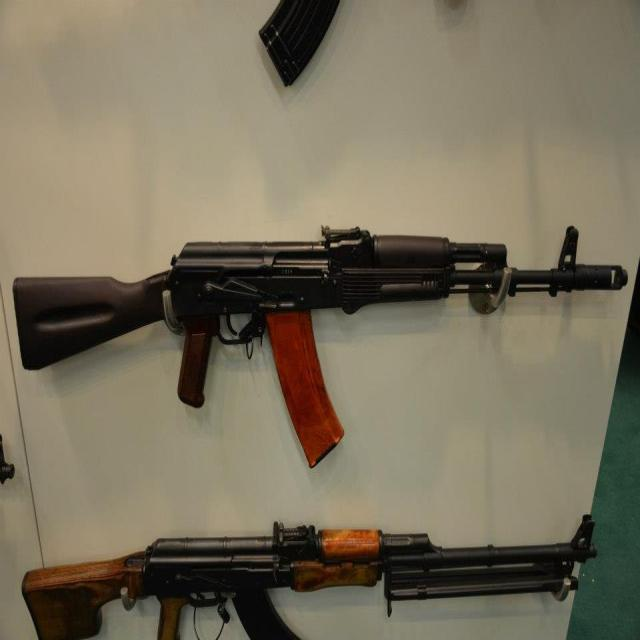firearm: (13, 225, 629, 468), (21, 514, 598, 640)
